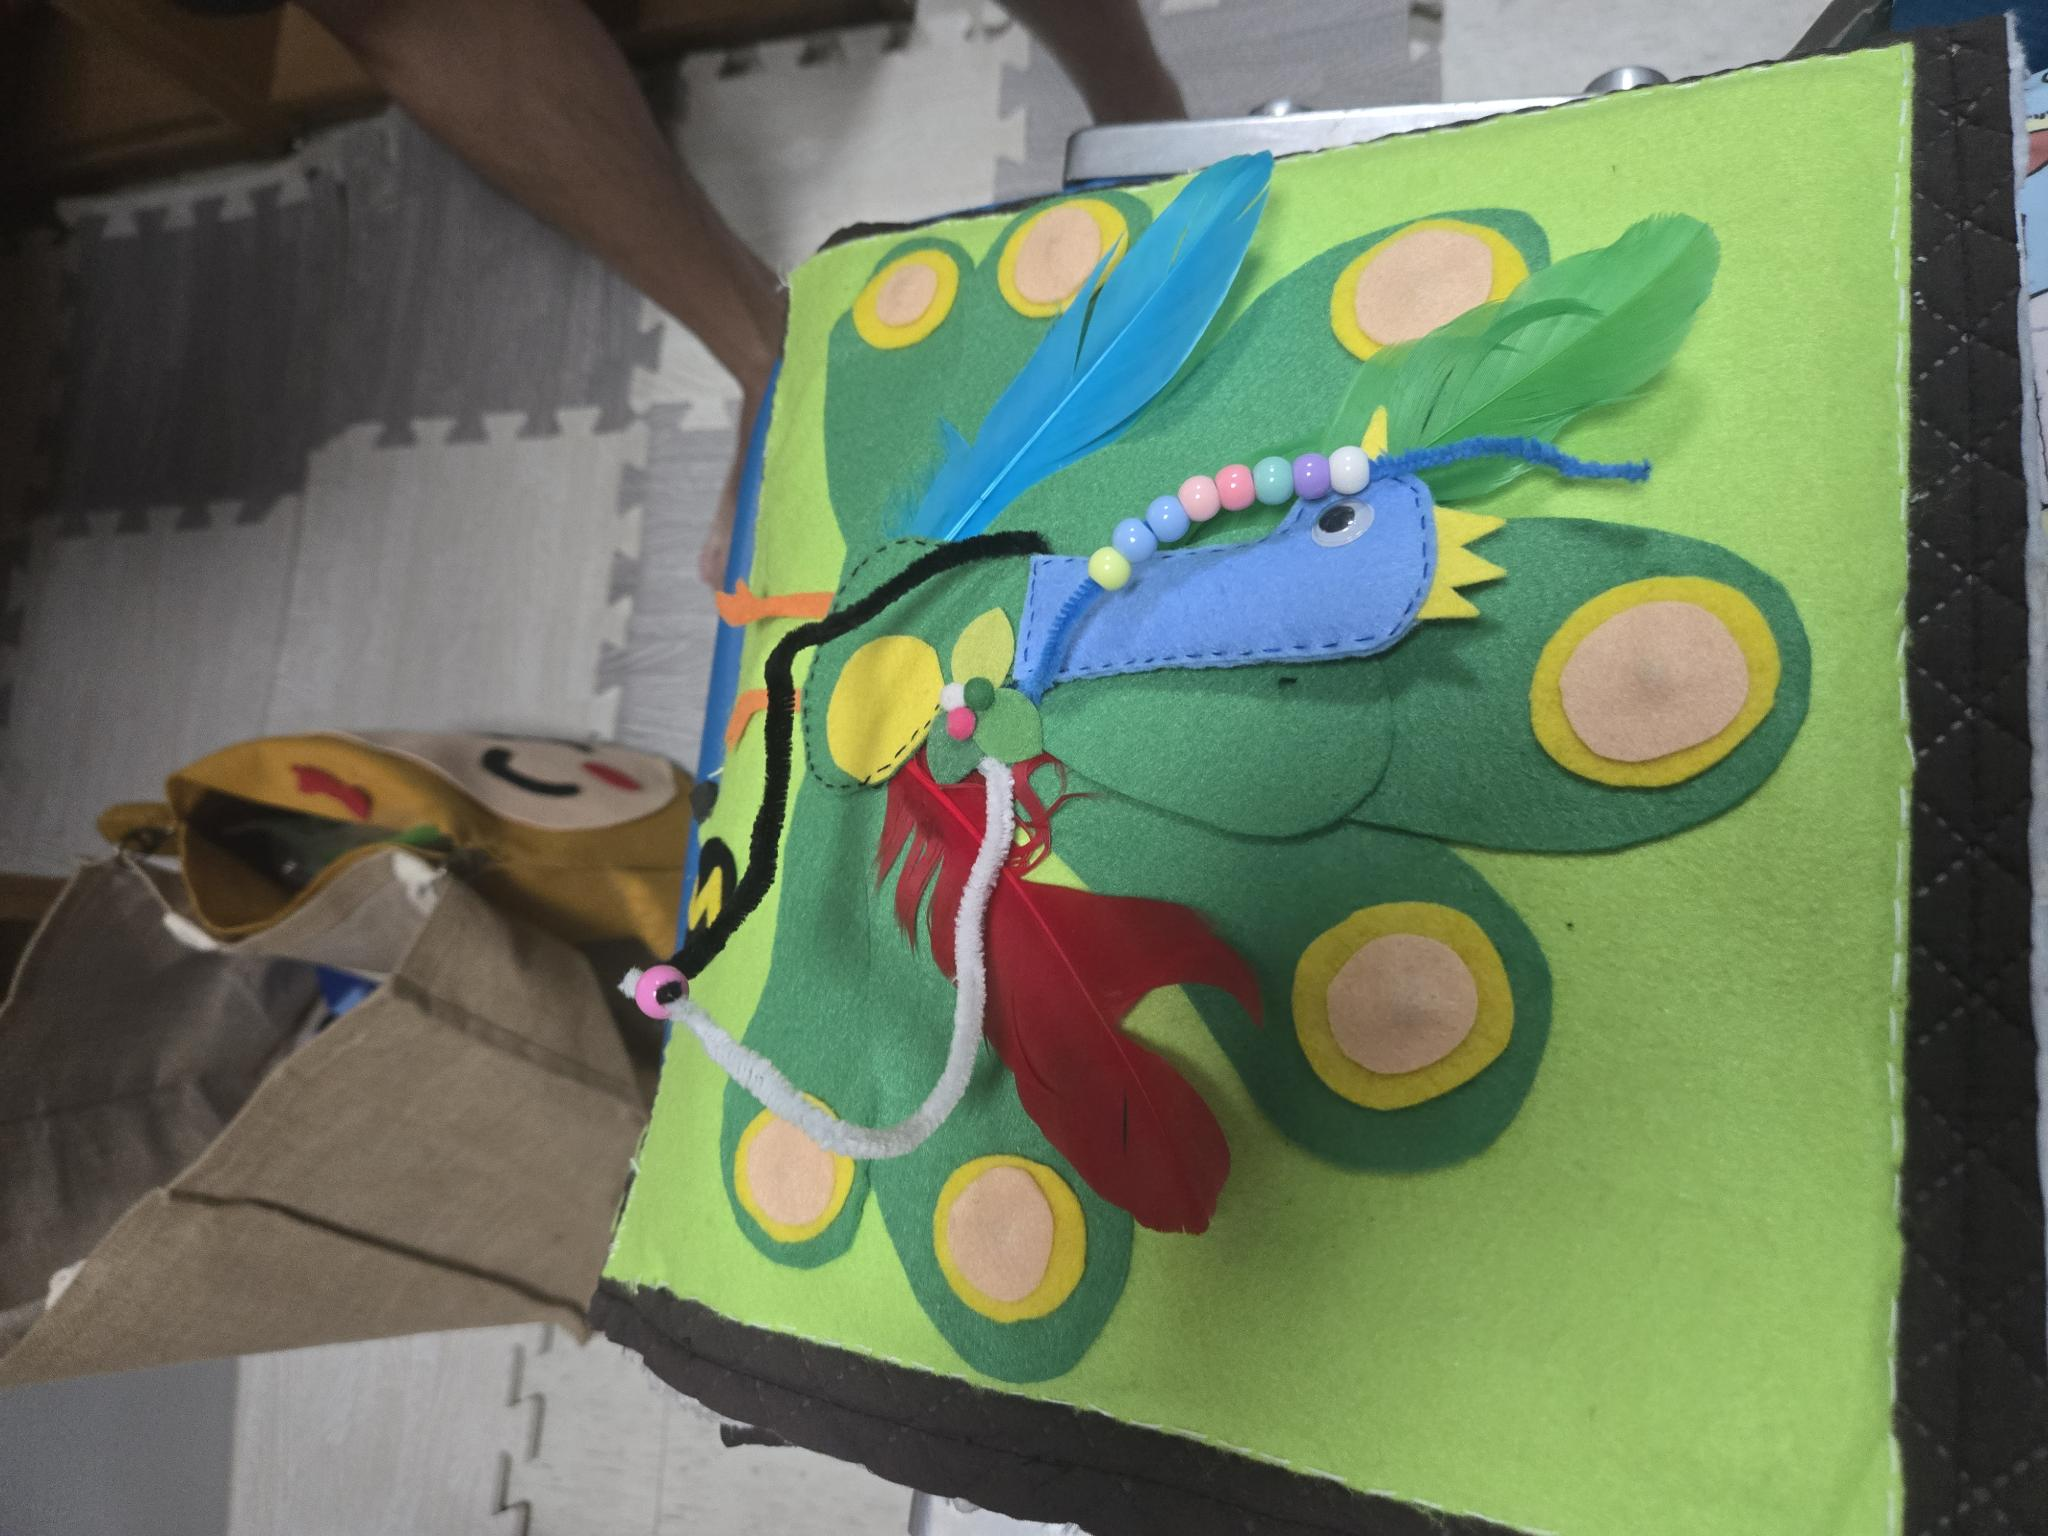bead: (632, 970, 697, 1023), (1203, 461, 1255, 508), (1251, 453, 1292, 513), (1137, 502, 1192, 545), (1176, 474, 1219, 528), (1077, 552, 1132, 594), (1292, 452, 1329, 513), (1106, 526, 1159, 568), (1332, 442, 1372, 497)
